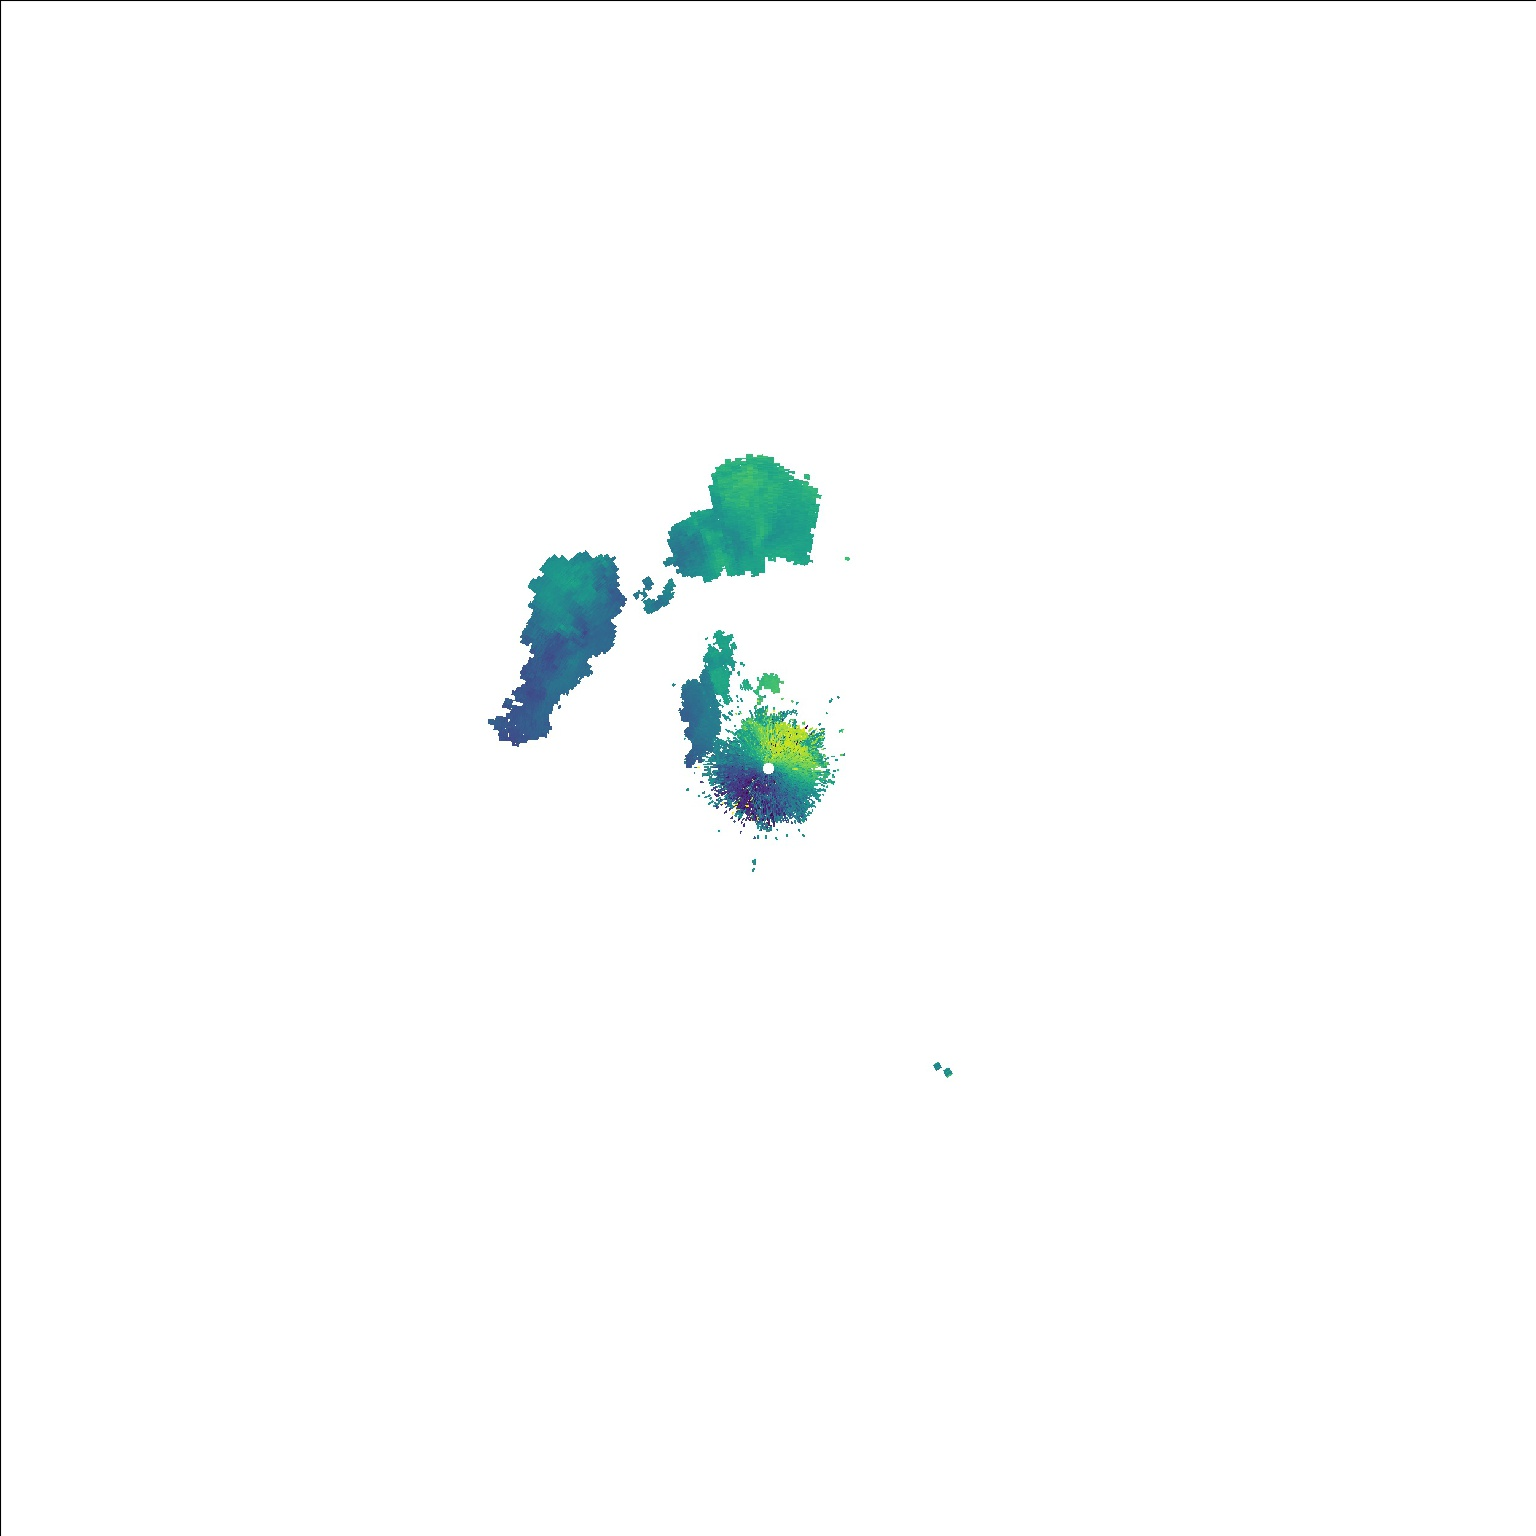fall: (928, 1059, 956, 1082)
